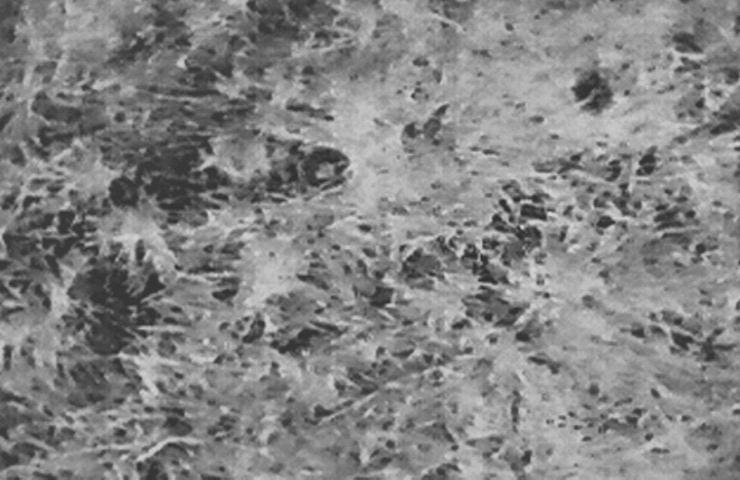landmines: (296, 142, 359, 196)
